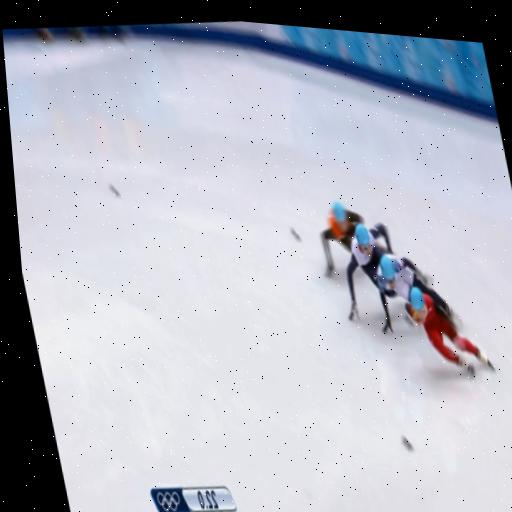Skater: (405, 287, 493, 376), (376, 255, 455, 324), (346, 223, 391, 320), (320, 202, 364, 276)
